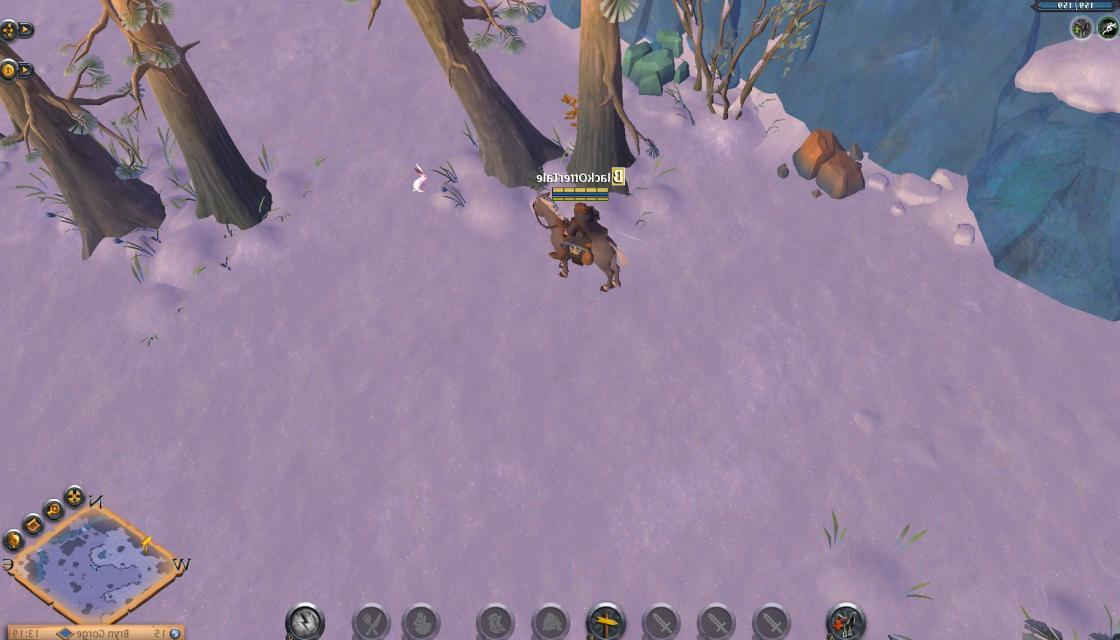limestone: (792, 127, 870, 201)
sandstone: (621, 22, 691, 97)
